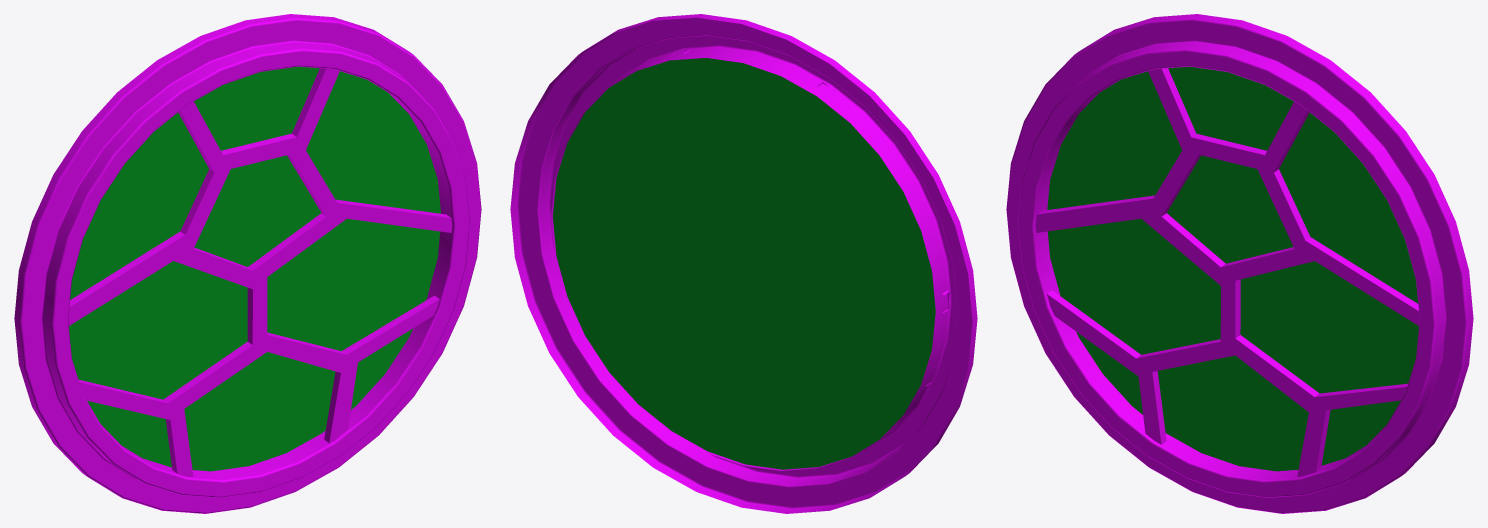
File: Fenetre_Ronde_Grande_4x4x0_02.FBX
The picture shows the model from 3 angles, left to right: view 1: azimuth 30°, elevation 25°; view 2: azimuth 150°, elevation 25°; view 3: azimuth 330°, elevation 25°; orthographic projection.
Visible parts, largest first — view 1: Fenetre_Ronde_Grande_4x4x0_02; view 2: Fenetre_Ronde_Grande_4x4x0_02; view 3: Fenetre_Ronde_Grande_4x4x0_02.
Part boxes in pixels (bbox=[...]): Fenetre_Ronde_Grande_4x4x0_02: bbox=[14, 14, 481, 513]; Fenetre_Ronde_Grande_4x4x0_02: bbox=[510, 14, 977, 513]; Fenetre_Ronde_Grande_4x4x0_02: bbox=[1006, 14, 1473, 513].
Size of the model in its own units: 299 by 299 by 18.32.
